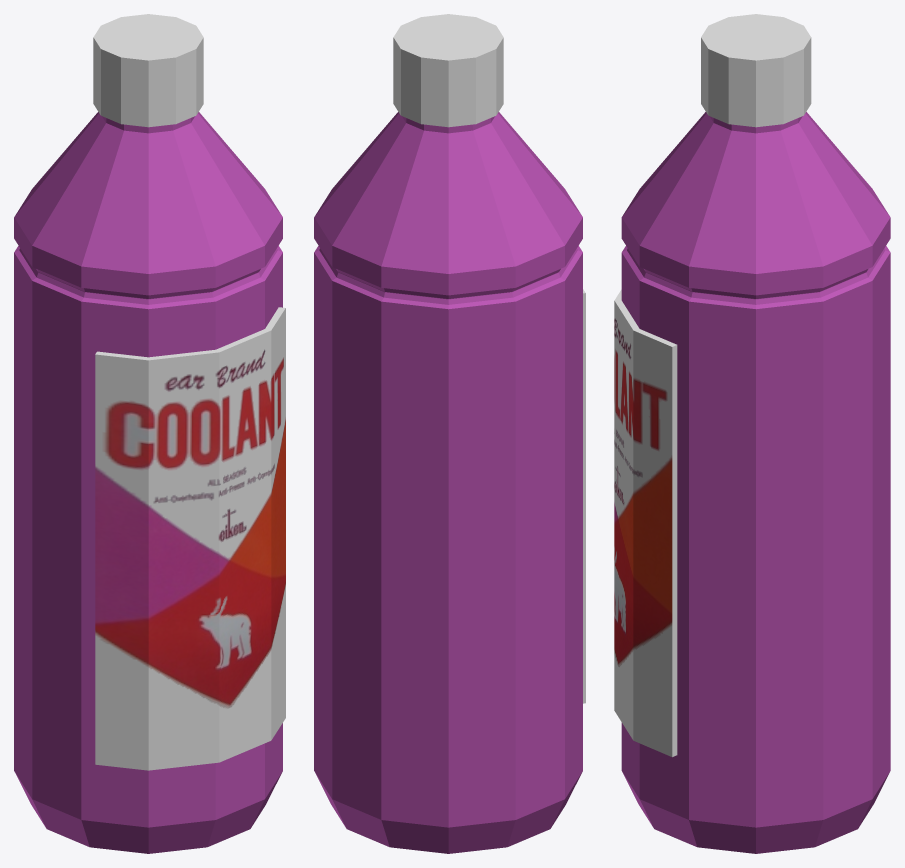
File: Koelvloeistof.fbx
3 renders of one model, left to right at view 1: azimuth 30°, elevation 25°; view 2: azimuth 150°, elevation 25°; view 3: azimuth 270°, elevation 25°, orthographic.
Parts seen in each view (by area): view 1: KoelvloeistofFles, KoelvloeistofDop; view 2: KoelvloeistofFles, KoelvloeistofDop; view 3: KoelvloeistofFles, KoelvloeistofDop.
Part boxes in pixels (left/top/right/bottom): KoelvloeistofFles: left=14, top=112, right=285, bottom=853; KoelvloeistofDop: left=93, top=14, right=203, bottom=127; KoelvloeistofFles: left=314, top=112, right=585, bottom=853; KoelvloeistofDop: left=393, top=14, right=503, bottom=127; KoelvloeistofFles: left=614, top=112, right=890, bottom=853; KoelvloeistofDop: left=701, top=14, right=811, bottom=127.
Bounding box in the file's own units: 38.7 × 122 × 39.74.
